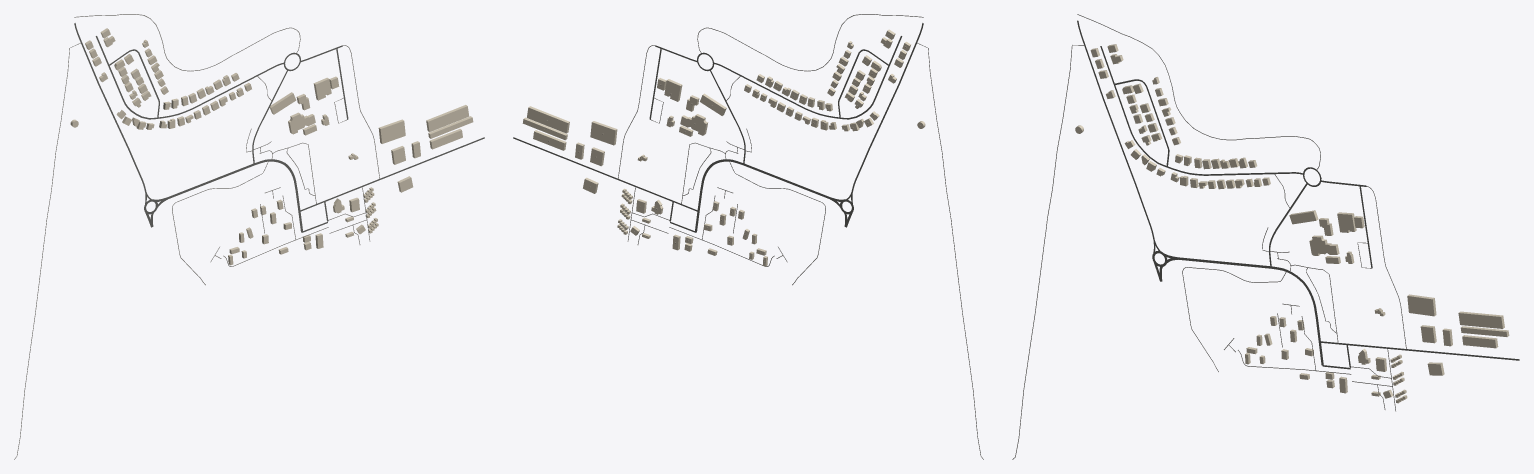
The model's file is historic-palestine-13_23_3546_3175.glb.
3 renders of one model, left to right at view 1: azimuth 30°, elevation 25°; view 2: azimuth 150°, elevation 25°; view 3: azimuth 330°, elevation 25°, orthographic. The views are drawn at different scales.
Parts seen in each view (by area): view 1: Building_.002, Road .003, Road .015, Road .005; view 2: Building_.002, Road .003, Road .015, Road .005, Building_.020; view 3: Road .003, Building_.002, Road .015, Road .005, Building_.020.
Boxes of the visible parts, x1,y1,x2,y2 form: Building_.002: (426, 105, 469, 131); Road .003: (168, 159, 302, 232); Road .015: (95, 36, 284, 119); Road .005: (14, 42, 81, 459); Building_.002: (527, 106, 569, 133); Road .003: (695, 159, 829, 232); Road .015: (713, 36, 902, 119); Road .005: (917, 43, 983, 459); Building_.020: (590, 121, 617, 145); Road .003: (1178, 257, 1323, 365); Building_.002: (1458, 311, 1504, 328); Road .015: (1100, 46, 1302, 175); Road .005: (1012, 45, 1084, 459); Building_.020: (1407, 294, 1436, 316).
Size of the model in its own units: 1083 by 941 by 8.7.
